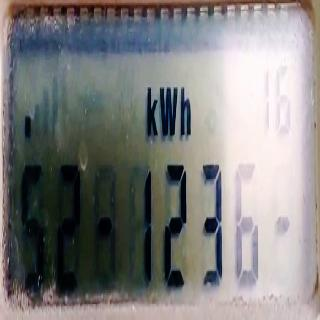-: (96, 210, 113, 240), (274, 208, 290, 238), (23, 112, 32, 141)
1: (141, 163, 156, 290)
2: (54, 158, 82, 298), (163, 157, 189, 291)
3: (200, 157, 225, 297)
5: (18, 155, 48, 302)
6: (233, 152, 261, 290)
